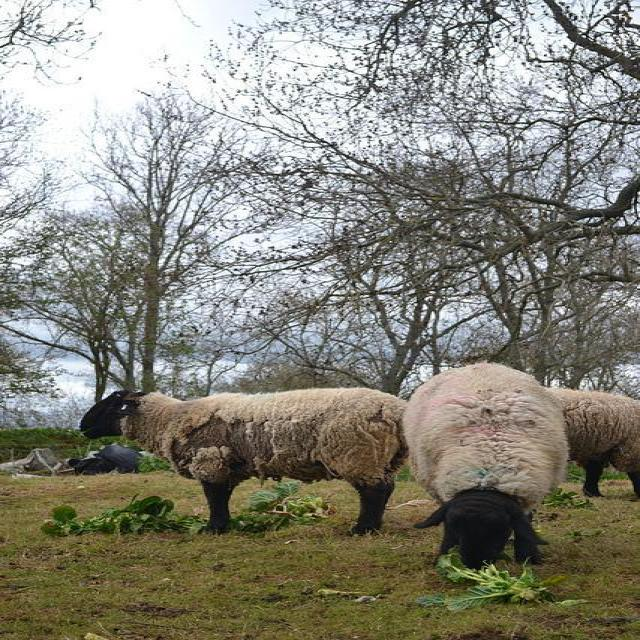Sheep: (77, 386, 410, 535), (397, 363, 571, 571), (547, 387, 639, 498)
